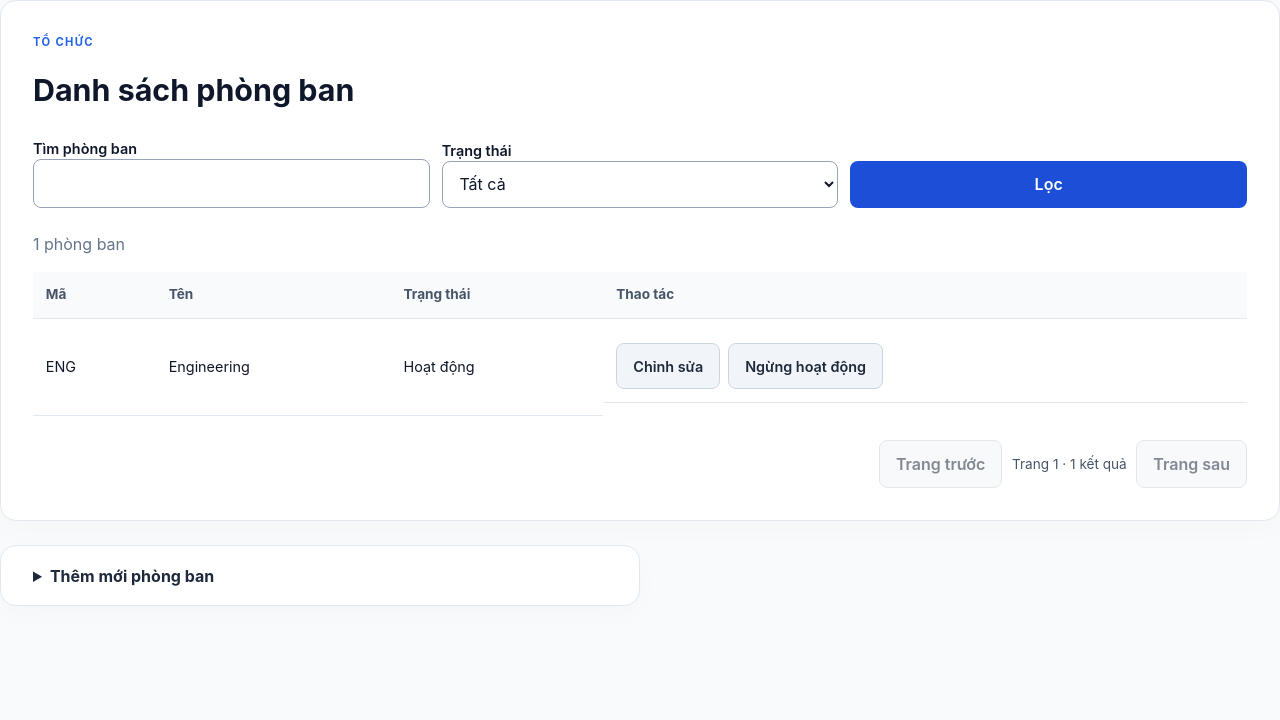
Scenario: keeps entered data when a save fails
Expected: the text "Engineering" is shown, [156,318,391,415]
Click the heading "Thêm mới phòng ban" at [132, 576], box [50,566,214,586]
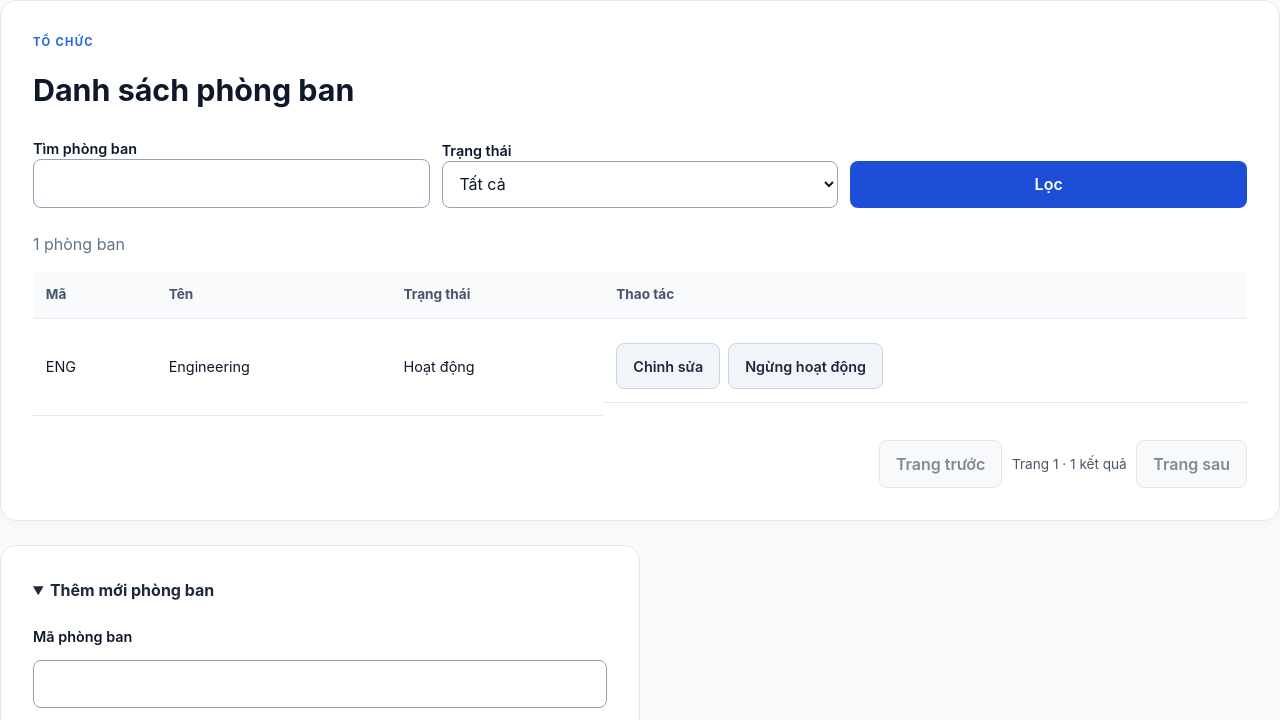
Type "QA" into the field labelled "Mã phòng ban" at [320, 684], box [33,660,607,708]
(page scrolled)
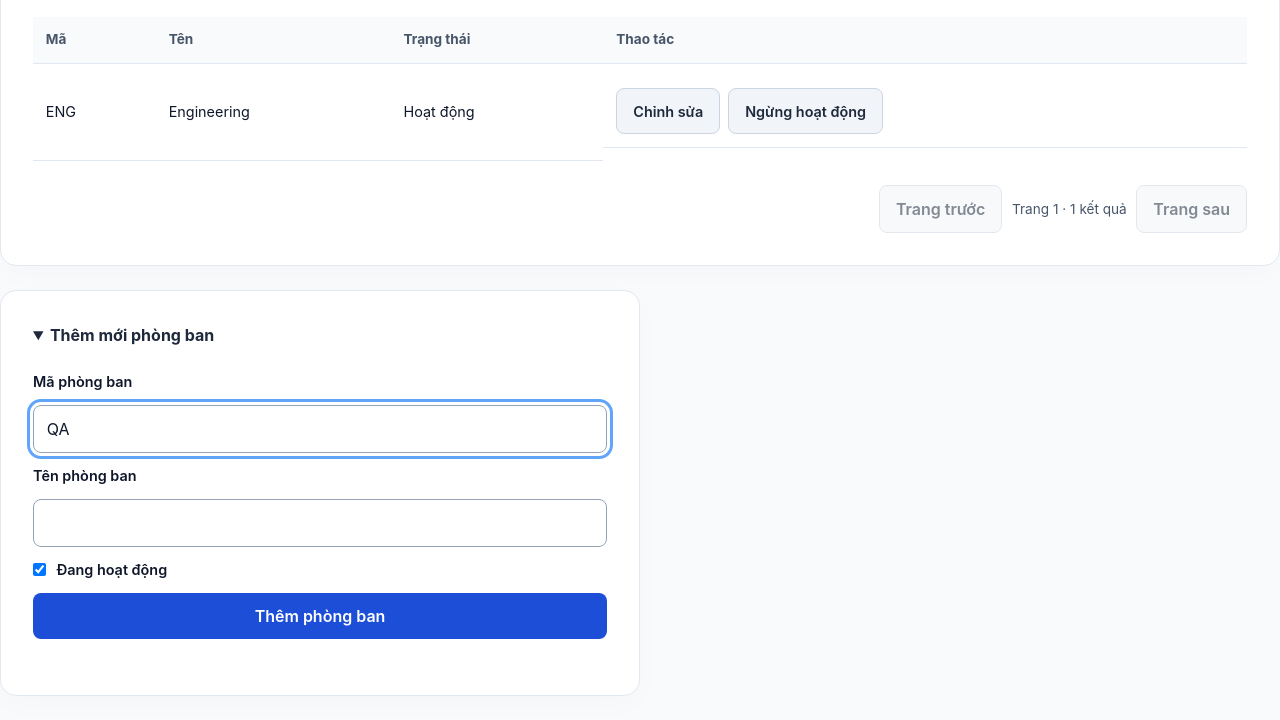
Type "Quality" into the field labelled "Tên phòng ban" at [320, 523], box [33,499,607,547]
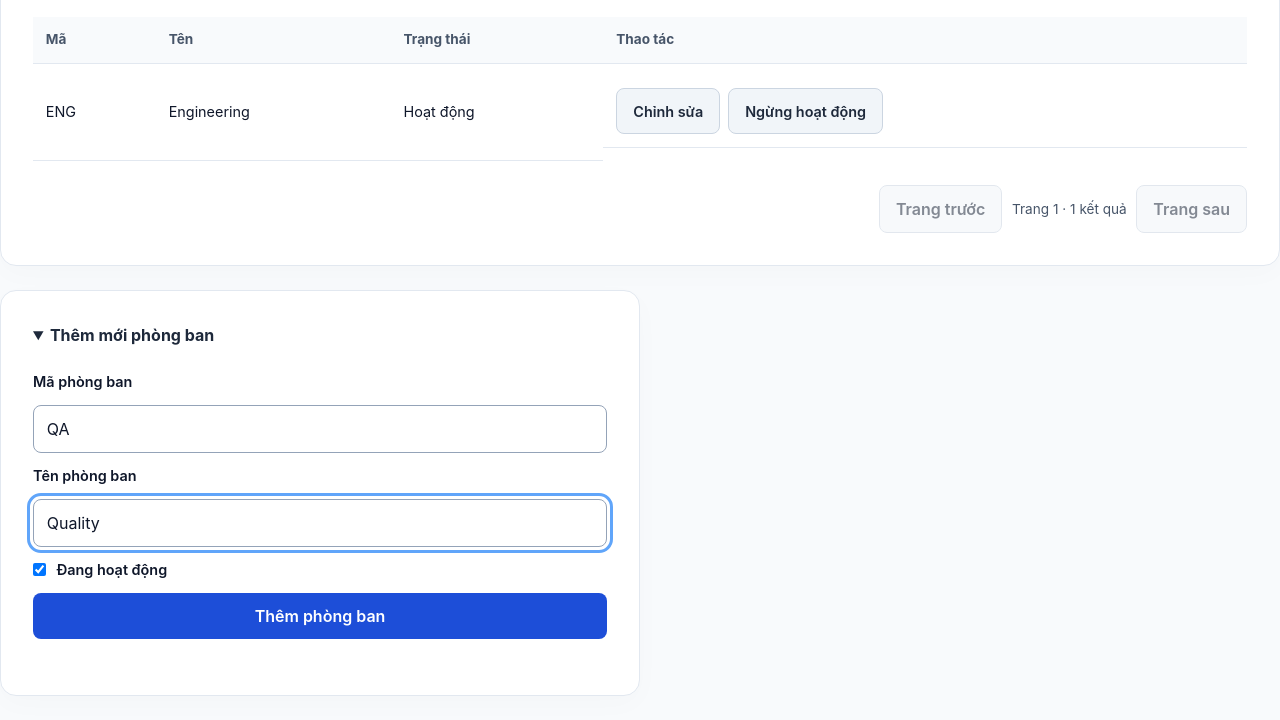
Click the button "Thêm phòng ban" at [320, 616], box [33,593,607,639]
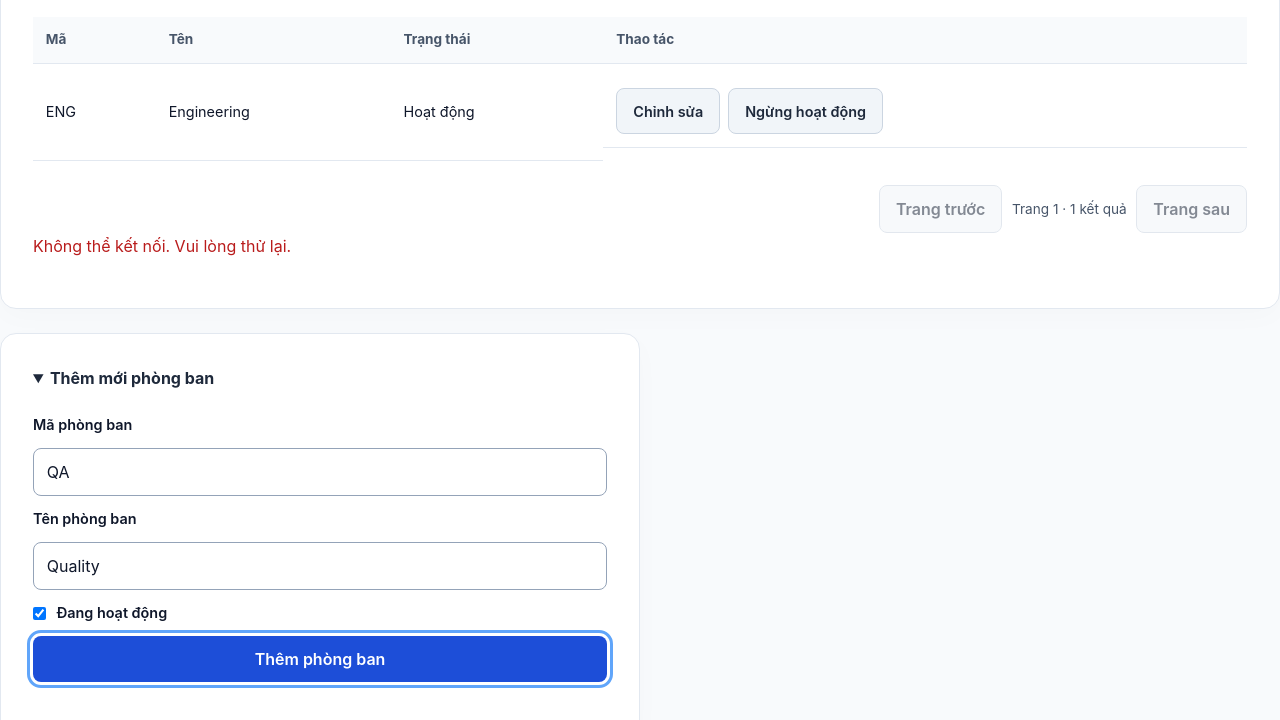
Result: the message "Không thể kết nối. Vui lòng thử lại." is shown at [33,236,291,256]
